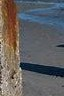Corrosion: (1, 1, 19, 58)
